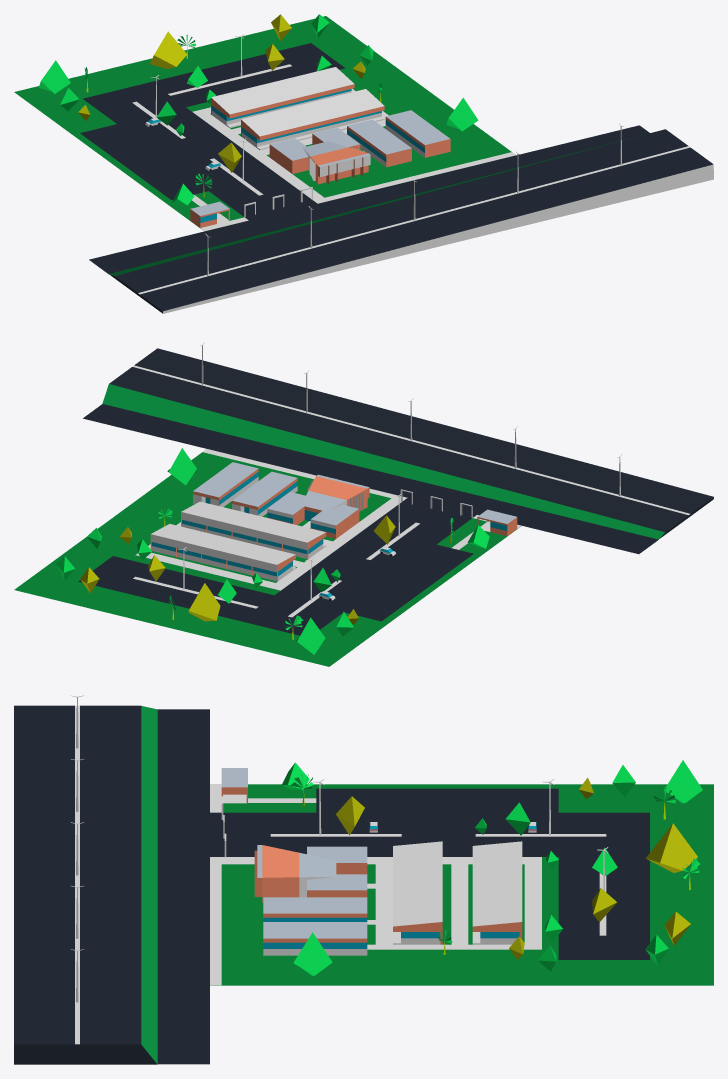
The model's file is cmsr.glb.
3 views of the same model, one above another, from view 1: azimuth 30°, elevation 25°; view 2: azimuth 150°, elevation 25°; view 3: azimuth 270°, elevation 25° (orthographic). The views are drawn at different scales.
Parts seen in each view (by area): view 1: cmsrroabr, cmsrmetre.000_greenbase, cmsrmeroa, cmsrmeroa.002, cmsrmebui.003, cmsrmeroa.001, cmsrmebui.001, cmsrmebui, cmsrmebui.002, cmsrmepav, cmsrmepav.010, cmsrmetre.010 (+3 smaller); view 2: cmsrroabr, cmsrmetre.000_greenbase, cmsrmeroa, cmsrmeroa.002, cmsrmebui.003, cmsrmeroa.001, cmsrmebui.001, cmsrmebui.002, cmsrmebui, cmsrmepav, cmsrmepav.005, cmsrmebui.004 (+4 smaller); view 3: cmsrroabr, cmsrmetre.000_greenbase, cmsrmeroa.002, cmsrmeroa, cmsrmeroa.001, cmsrmebui.003, cmsrmebui.001, cmsrmebui, cmsrmebui.002, cmsrmepav.010, cmsrmepav.001, cmsrmepav.005 (+9 smaller).
Boxes of the visible parts, bbox=[...] form: cmsrroabr: bbox=[109, 129, 713, 313]; cmsrmetre.000_greenbase: bbox=[14, 16, 511, 230]; cmsrmeroa: bbox=[80, 107, 317, 220]; cmsrmeroa.002: bbox=[89, 125, 649, 274]; cmsrmebui.003: bbox=[211, 67, 384, 150]; cmsrmeroa.001: bbox=[83, 43, 345, 123]; cmsrmebui.001: bbox=[347, 110, 450, 167]; cmsrmebui: bbox=[303, 141, 370, 184]; cmsrmebui.002: bbox=[269, 127, 360, 173]; cmsrmepav: bbox=[192, 109, 324, 200]; cmsrmepav.010: bbox=[313, 152, 516, 203]; cmsrmetre.010: bbox=[150, 31, 186, 68]; cmsrroabr: bbox=[102, 348, 713, 539]; cmsrmetre.000_greenbase: bbox=[14, 452, 521, 666]; cmsrmeroa: bbox=[275, 498, 476, 621]; cmsrmeroa.002: bbox=[83, 404, 658, 554]; cmsrmebui.003: bbox=[150, 501, 326, 581]; cmsrmeroa.001: bbox=[78, 556, 343, 635]; cmsrmebui.001: bbox=[193, 462, 297, 516]; cmsrmebui.002: bbox=[267, 492, 359, 538]; cmsrmebui: bbox=[301, 474, 369, 520]; cmsrmepav: bbox=[269, 498, 401, 590]; cmsrmepav.005: bbox=[146, 552, 275, 587]; cmsrmebui.004: bbox=[477, 509, 517, 536]; cmsrroabr: bbox=[14, 705, 157, 1064]; cmsrmetre.000_greenbase: bbox=[210, 784, 713, 985]; cmsrmeroa.002: bbox=[157, 709, 209, 1064]; cmsrmeroa: bbox=[210, 788, 558, 856]; cmsrmeroa.001: bbox=[558, 812, 649, 959]; cmsrmebui.003: bbox=[393, 841, 522, 944]; cmsrmebui.001: bbox=[263, 897, 367, 955]; cmsrmebui: bbox=[254, 845, 336, 902]; cmsrmebui.002: bbox=[307, 846, 367, 897]; cmsrmepav.010: bbox=[210, 857, 221, 985]; cmsrmepav.001: bbox=[375, 864, 392, 944]; cmsrmepav.005: bbox=[524, 864, 541, 944].
Bounding box in the file's own units: 2.51 × 0.235 × 2.09.
